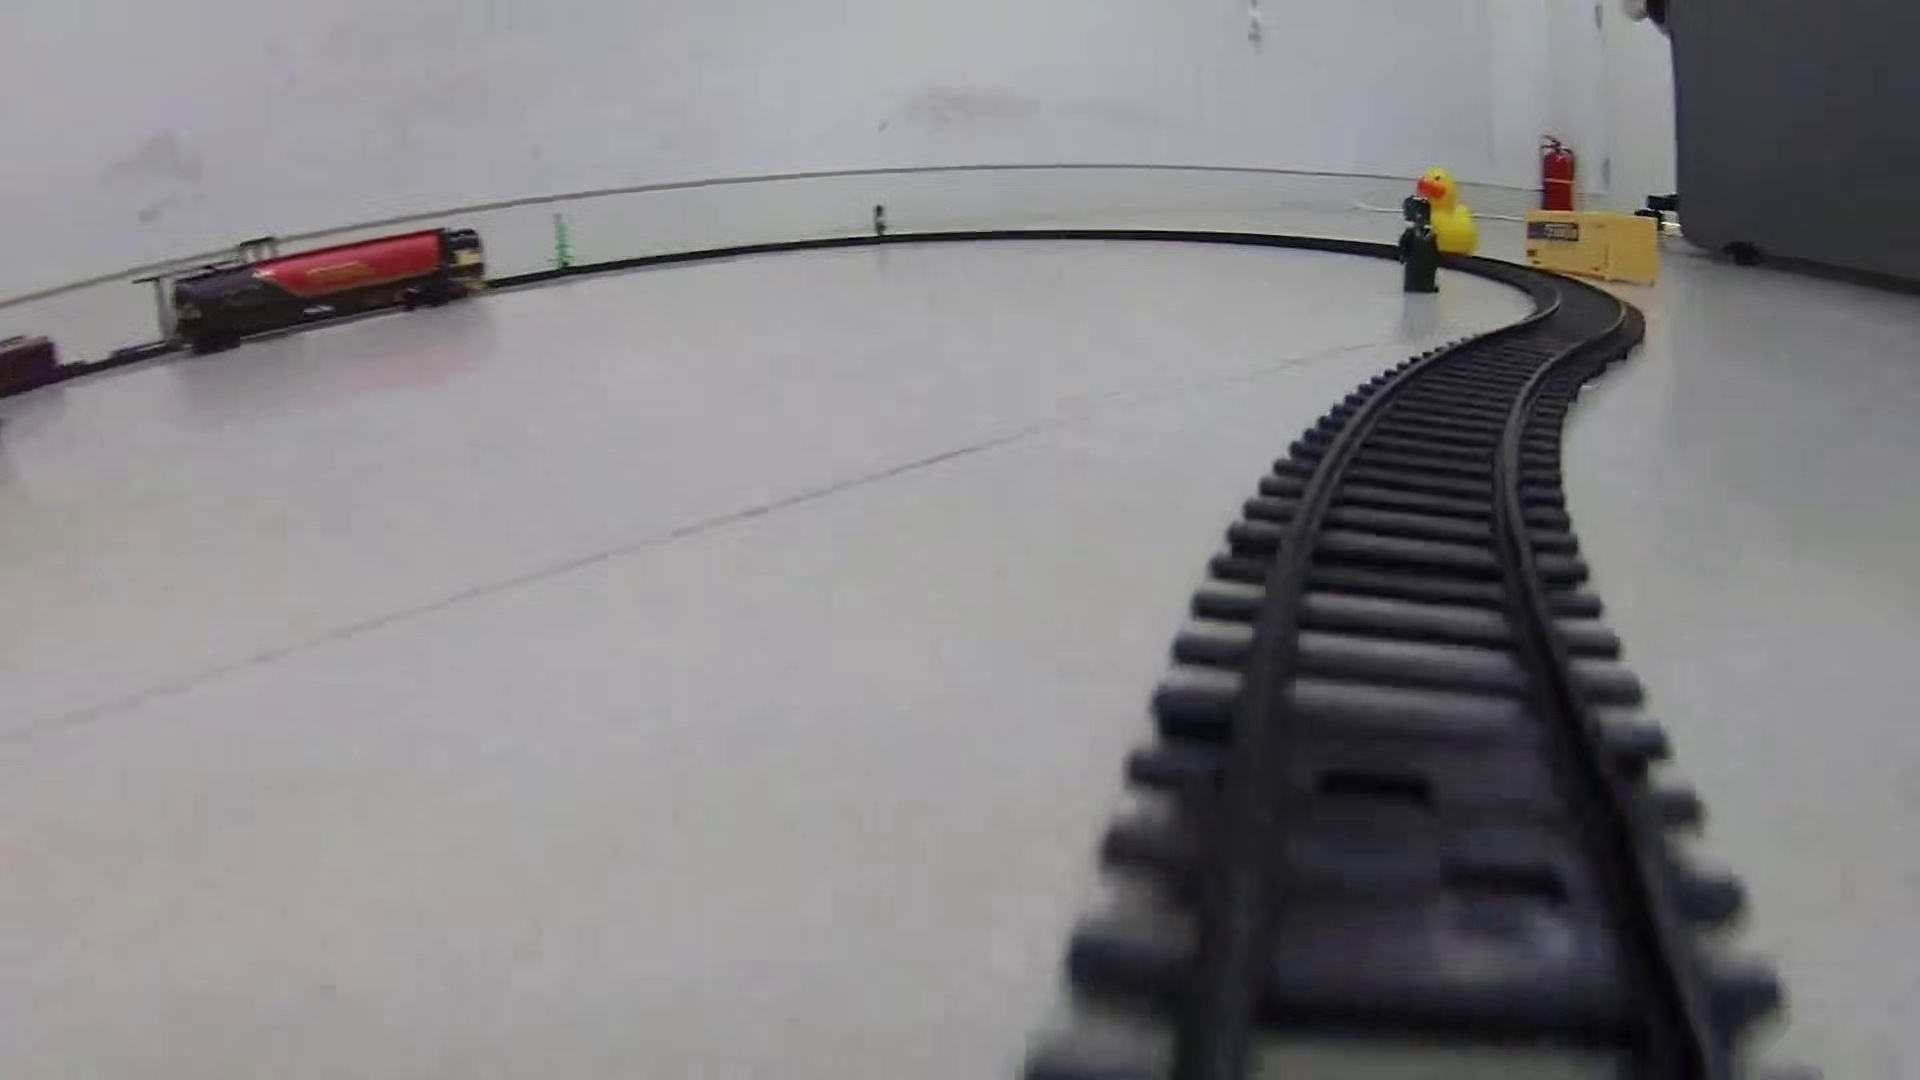people: (1395, 196, 1444, 296), (869, 201, 888, 238)
tree: (547, 211, 578, 274)
